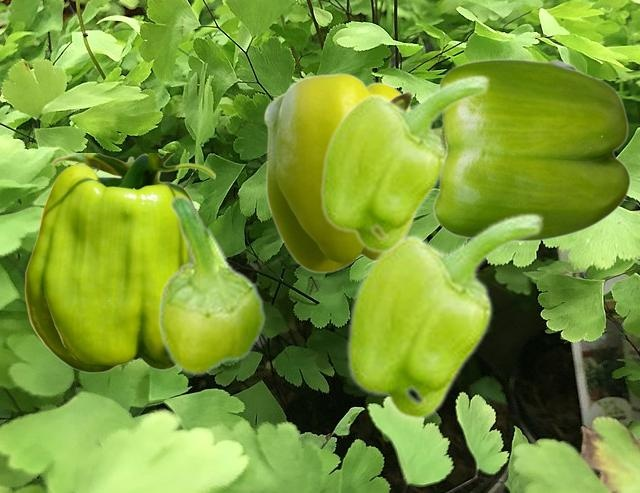bell_pepper: (391, 58, 630, 241), (24, 153, 215, 372), (345, 211, 544, 420), (319, 73, 490, 253), (263, 72, 412, 272), (157, 195, 265, 375)
